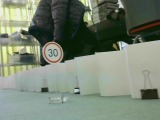speed_30: (40, 40, 64, 65)
